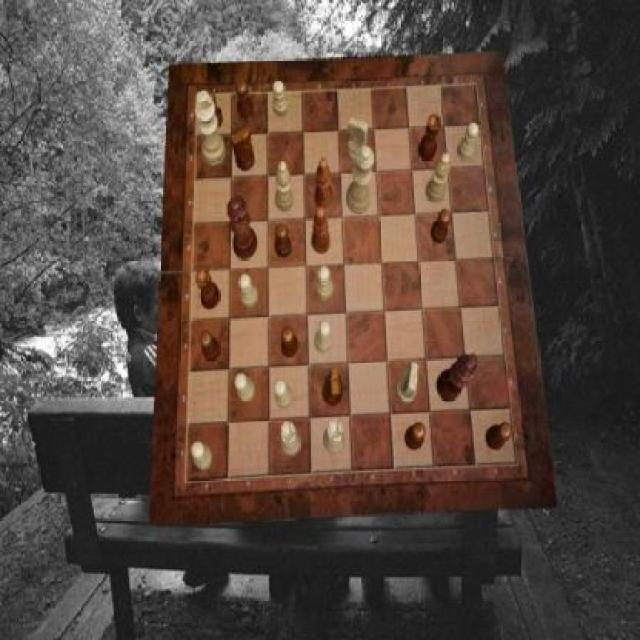bishop: (314, 158, 333, 211), (313, 206, 332, 254)
black-bishop: (435, 354, 478, 401)
black-king: (230, 128, 254, 172), (322, 366, 342, 406)
black-knight: (484, 423, 512, 451), (203, 91, 223, 129), (431, 209, 451, 244), (235, 82, 253, 120), (200, 331, 221, 362), (404, 423, 426, 451), (282, 326, 299, 359), (276, 225, 292, 259)
black-pawn: (228, 196, 258, 260)
black-queen: (418, 114, 442, 161), (195, 268, 220, 310)
black-rook: (426, 154, 451, 203), (276, 162, 294, 212)
white-bishop: (196, 89, 227, 167)
white-king: (397, 363, 420, 405), (348, 117, 368, 163)
white-knight: (457, 123, 479, 162), (240, 272, 260, 307), (190, 442, 212, 471), (315, 266, 333, 301), (272, 81, 288, 118), (236, 374, 256, 403), (274, 380, 293, 409), (316, 320, 332, 354)
white-pawn: (346, 146, 376, 214)
white-queen: (280, 422, 301, 458), (323, 418, 344, 454)
